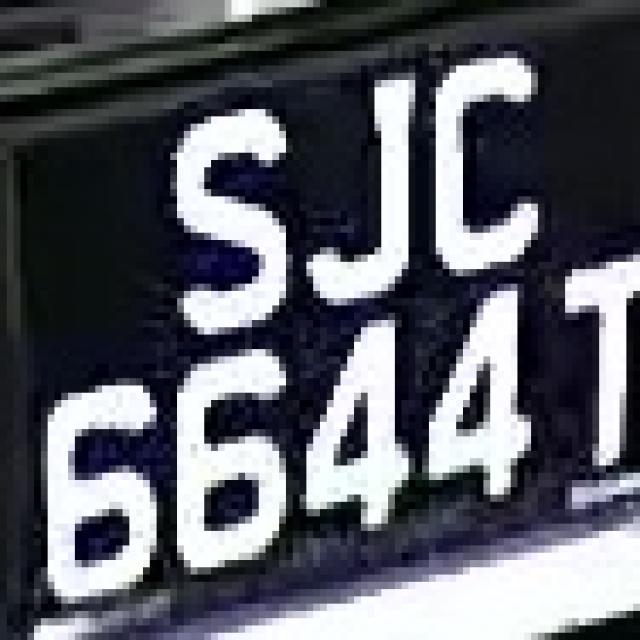4: (395, 284, 538, 538), (279, 320, 415, 538)
6: (7, 342, 156, 611), (156, 356, 292, 589)
C: (429, 29, 551, 298)
J: (279, 29, 415, 327)
T: (551, 248, 640, 466), (6, 2, 7, 6)
